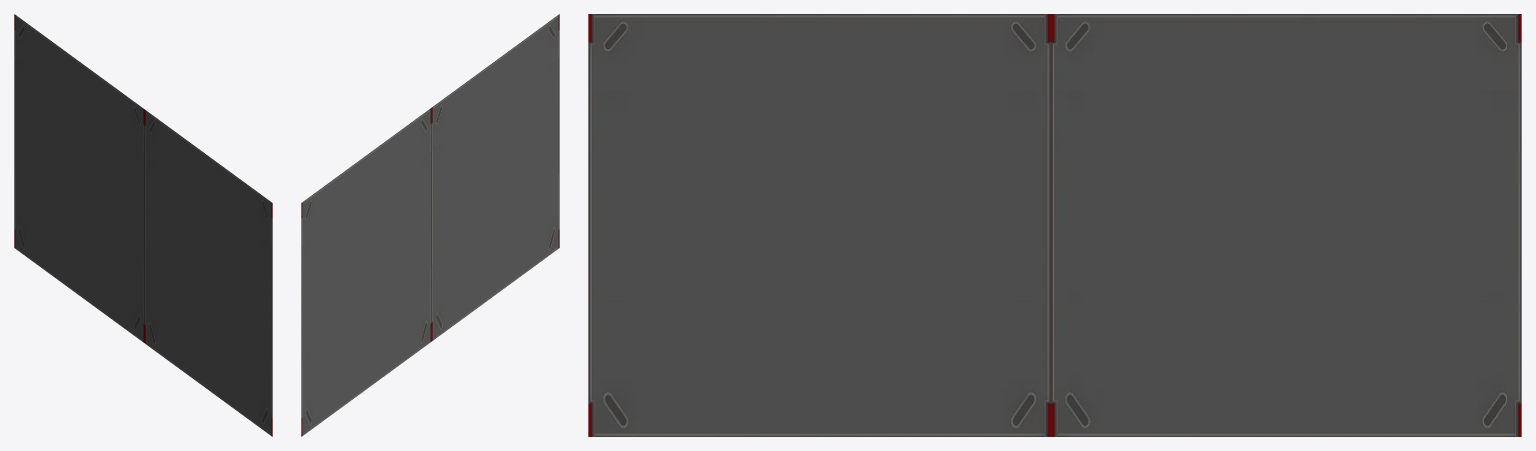
The model's file is TopSimple_Straight.glb.
3 views of the same model, side by side, from view 1: azimuth 30°, elevation 25°; view 2: azimuth 150°, elevation 25°; view 3: azimuth 270°, elevation 25° (orthographic). The views are drawn at different scales.
Visible parts, largest first — view 1: TopSimple_Straight; view 2: TopSimple_Straight; view 3: TopSimple_Straight.
Part boxes in pixels (x1,y1,x2,y2): TopSimple_Straight: (14,14,272,436); TopSimple_Straight: (301,14,559,436); TopSimple_Straight: (588,14,1521,436).
Bounding box in the file's own units: 0 × 2 × 4.
Materials: 1 (1 with a texture image).
